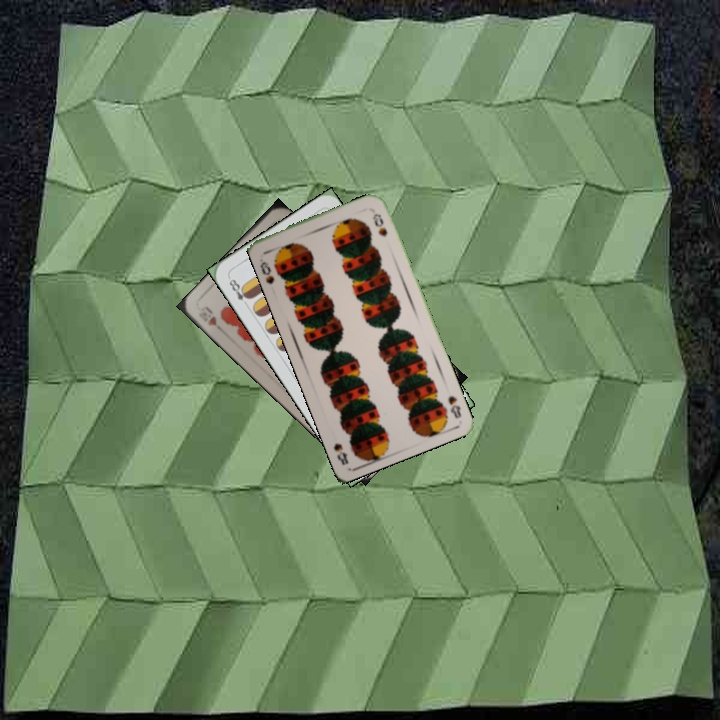E8: (224, 273, 253, 309)
H10: (201, 302, 220, 329)
S8: (256, 255, 277, 287), (444, 391, 464, 421)
